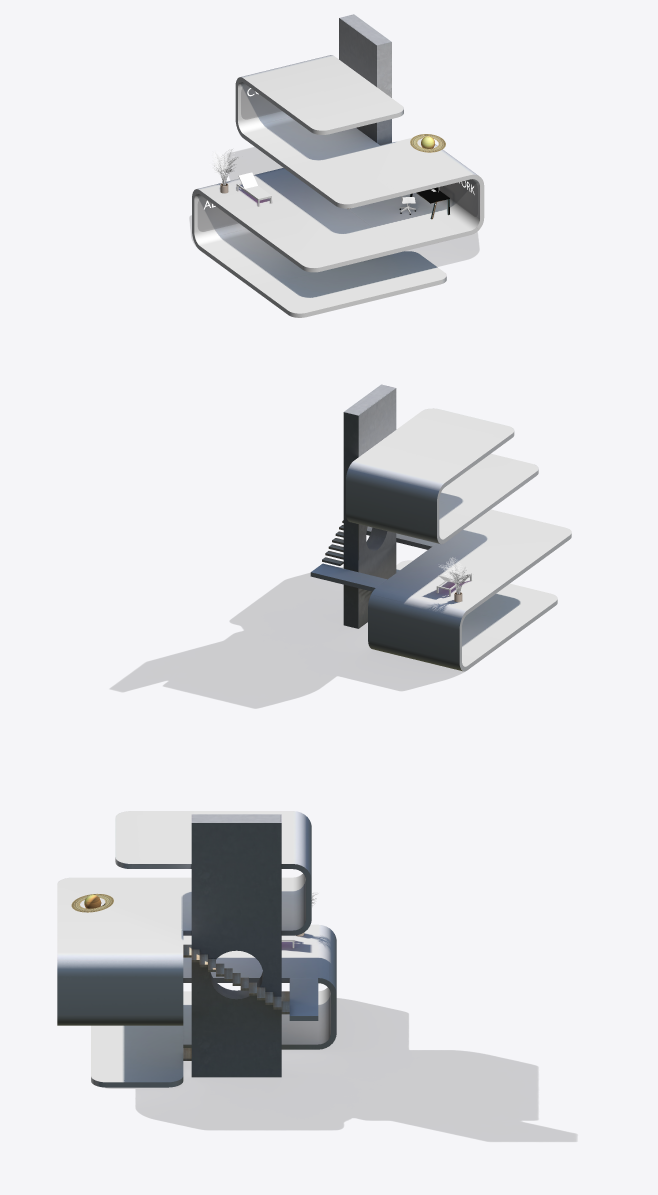
Rendered from ArchetypeHouse.glb.
3 views of the same model, one above another, from view 1: azimuth 30°, elevation 25°; view 2: azimuth 150°, elevation 25°; view 3: azimuth 270°, elevation 25° (orthographic). The views are drawn at different scales.
Visible parts, largest first — view 1: Floors, Column, Shadow, Overlay2, Overlay3, Overlay1, Lounger, Palm, Saturn; view 2: Floors, Shadow, Column; view 3: Floors, Shadow, Column, Stairs, Saturn.
Boxes of the visible parts, box(x1,y1,x2,y2) form: Floors: box(192, 55, 484, 317); Column: box(339, 14, 391, 145); Shadow: box(190, 147, 478, 266); Overlay2: box(439, 179, 477, 216); Overlay3: box(241, 85, 281, 119); Overlay1: box(198, 197, 238, 231); Lounger: box(236, 172, 271, 206); Palm: box(209, 148, 239, 185); Saturn: box(410, 134, 445, 152); Floors: box(310, 408, 571, 671); Shadow: box(111, 567, 463, 707); Column: box(343, 384, 396, 628); Floors: box(57, 811, 336, 1087); Shadow: box(110, 998, 575, 1141); Column: box(191, 814, 281, 1077); Stairs: box(183, 944, 289, 1060); Saturn: box(71, 893, 113, 912).
Size of the model in its own units: 16 by 8.92 by 20.
22 materials, 9 textured.
